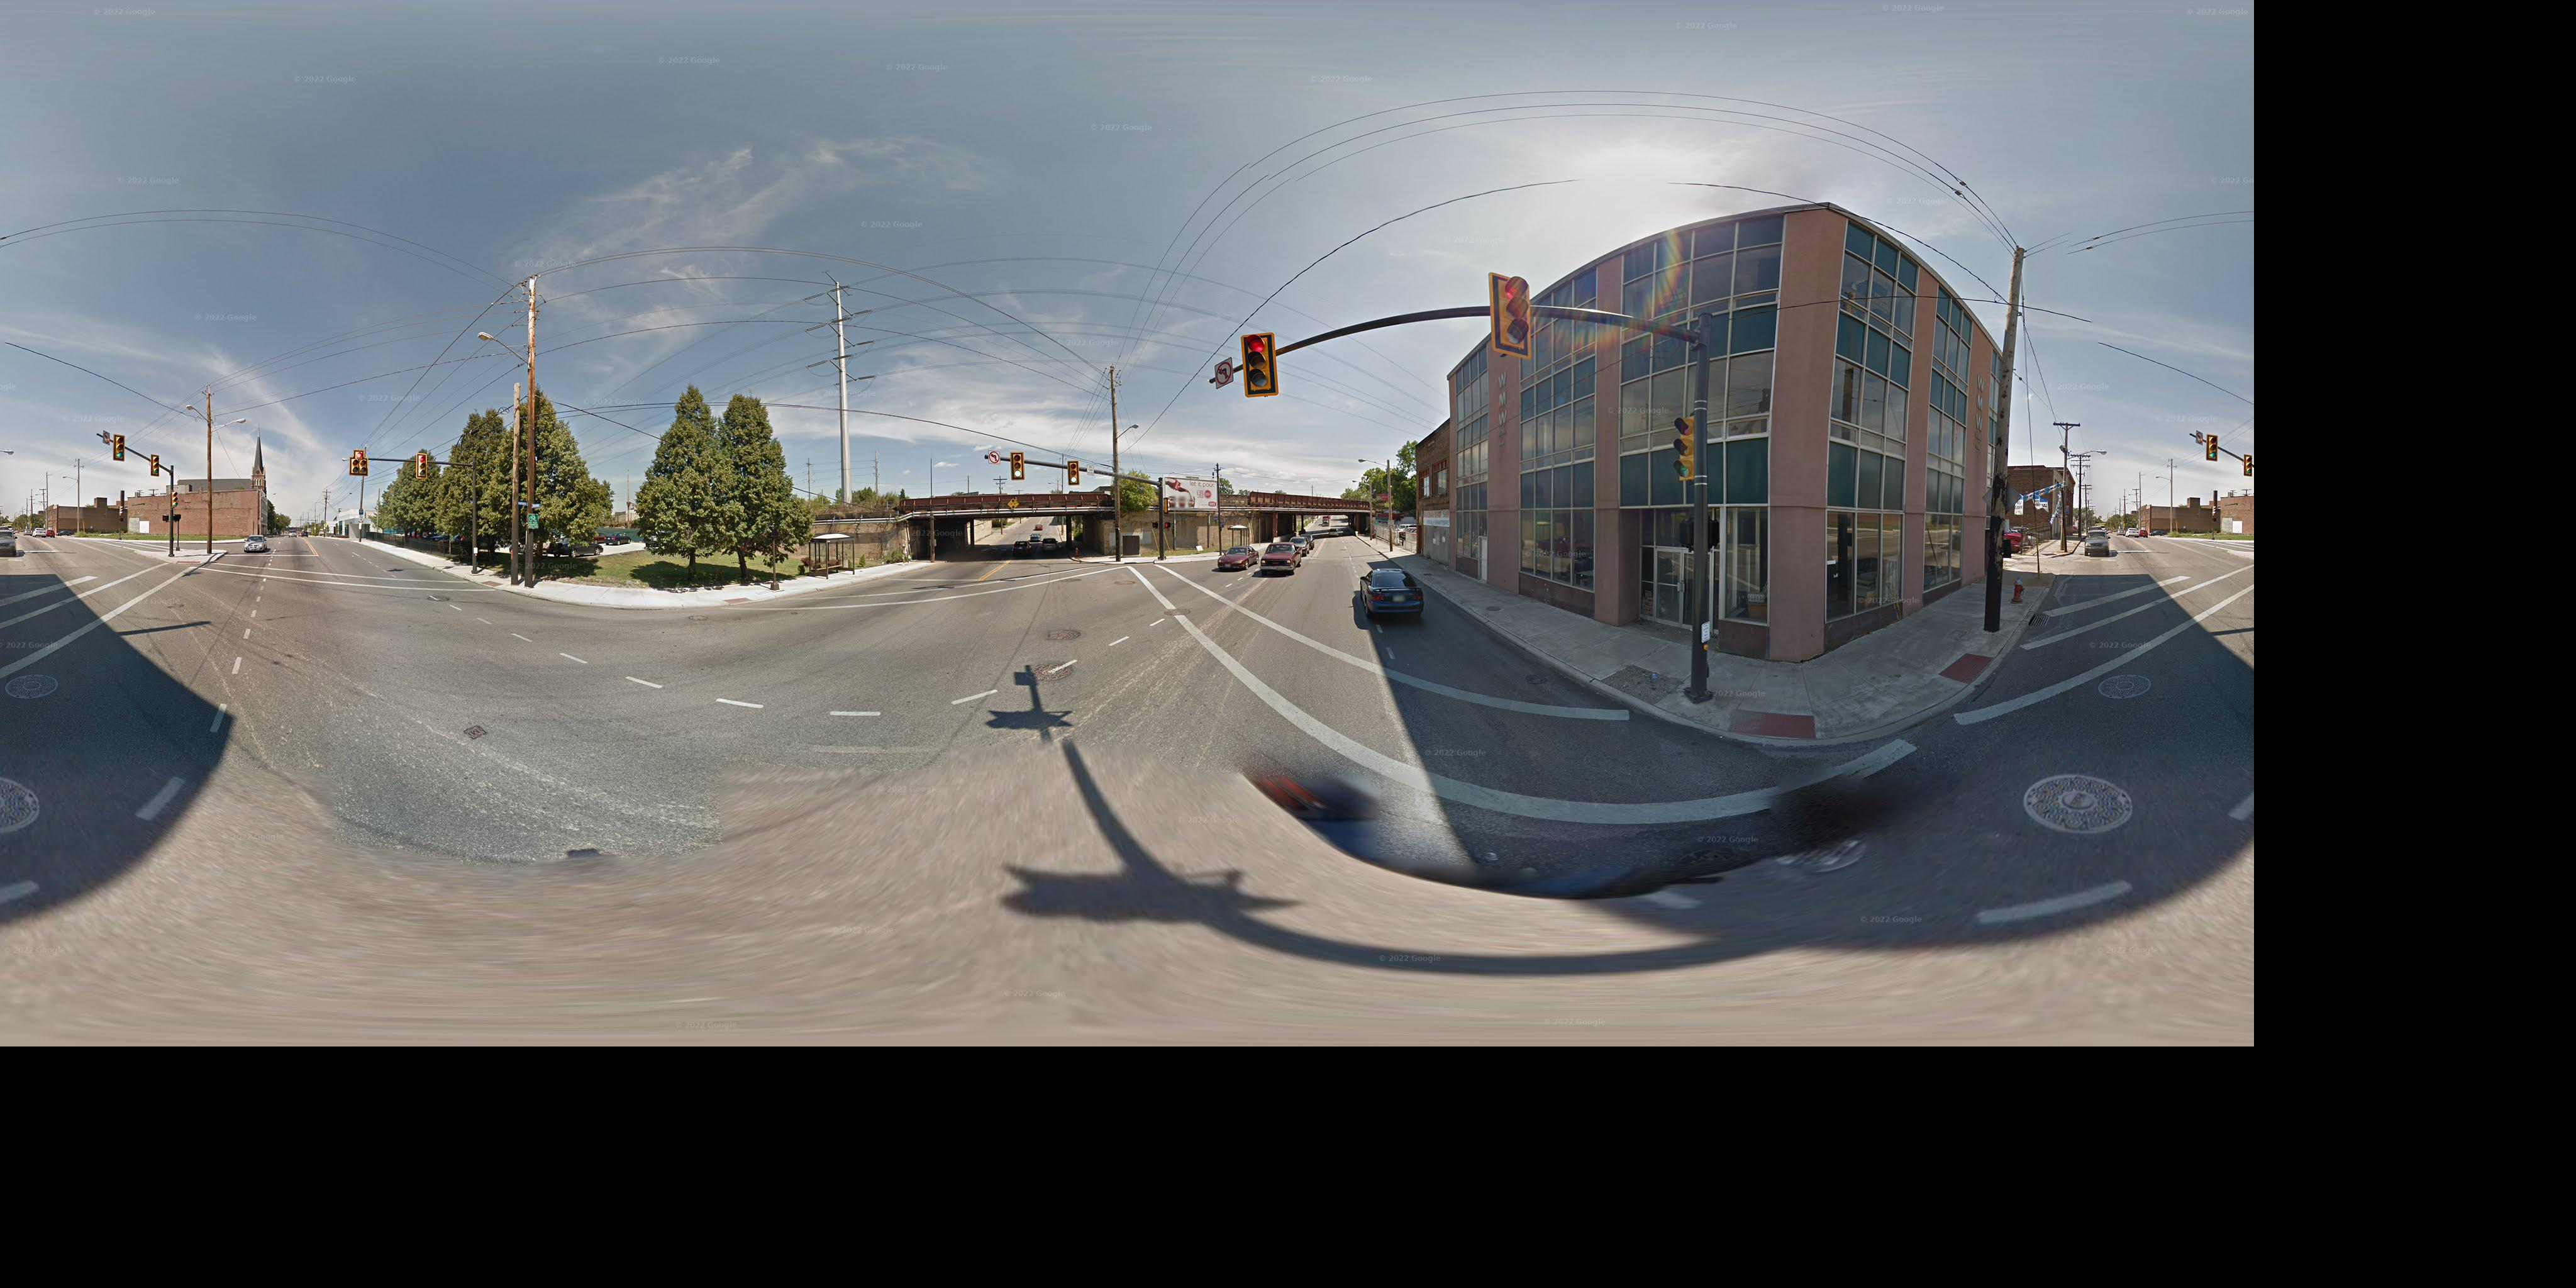Curb Ramp: (1692, 678, 1843, 752), (1927, 632, 2014, 706), (710, 585, 774, 616), (470, 572, 509, 593), (1109, 554, 1158, 568), (169, 554, 205, 568)
